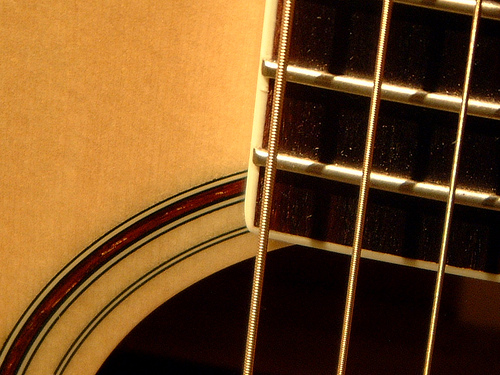guitar: (5, 4, 500, 374)
